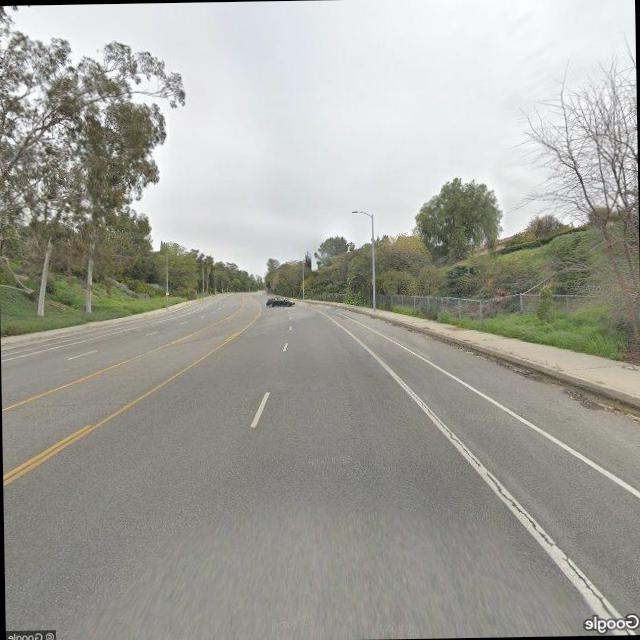pothole: (403, 381, 622, 618)
